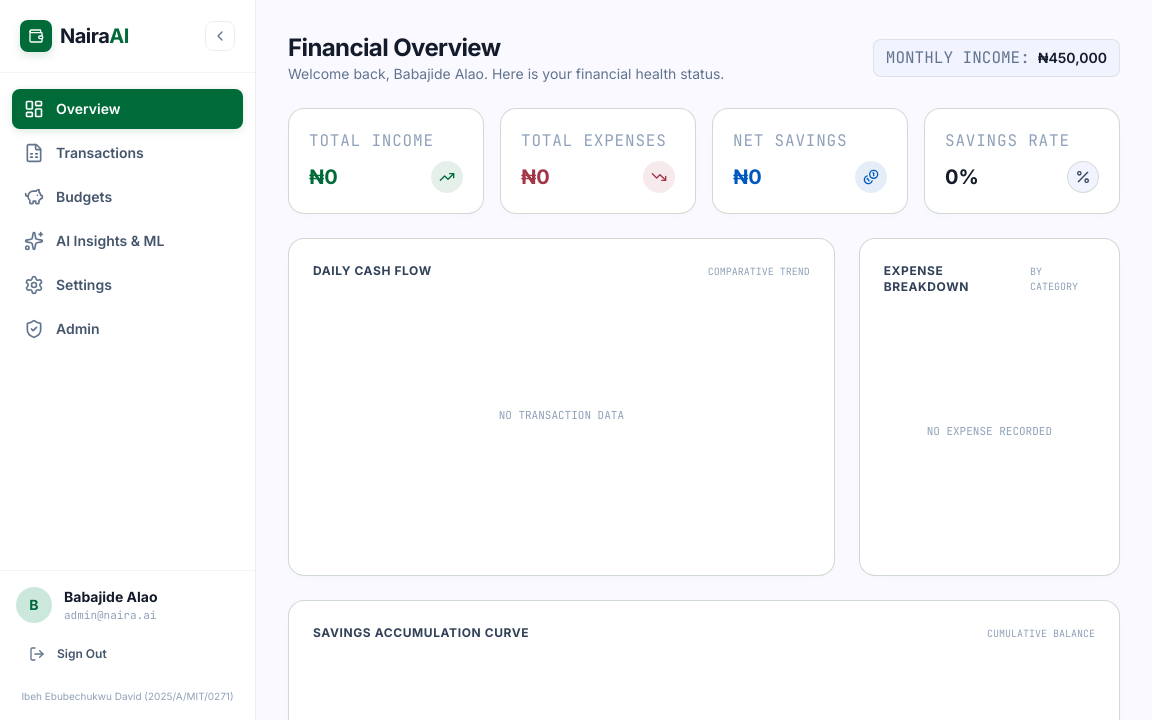
it: Admin tab › renders the users table with server-driven pagination
Expected: the heading "Financial Overview" is shown, [288,33,500,62]
Click the button "Admin". click: {"x": 128, "y": 329}
box: [12,309,243,349]
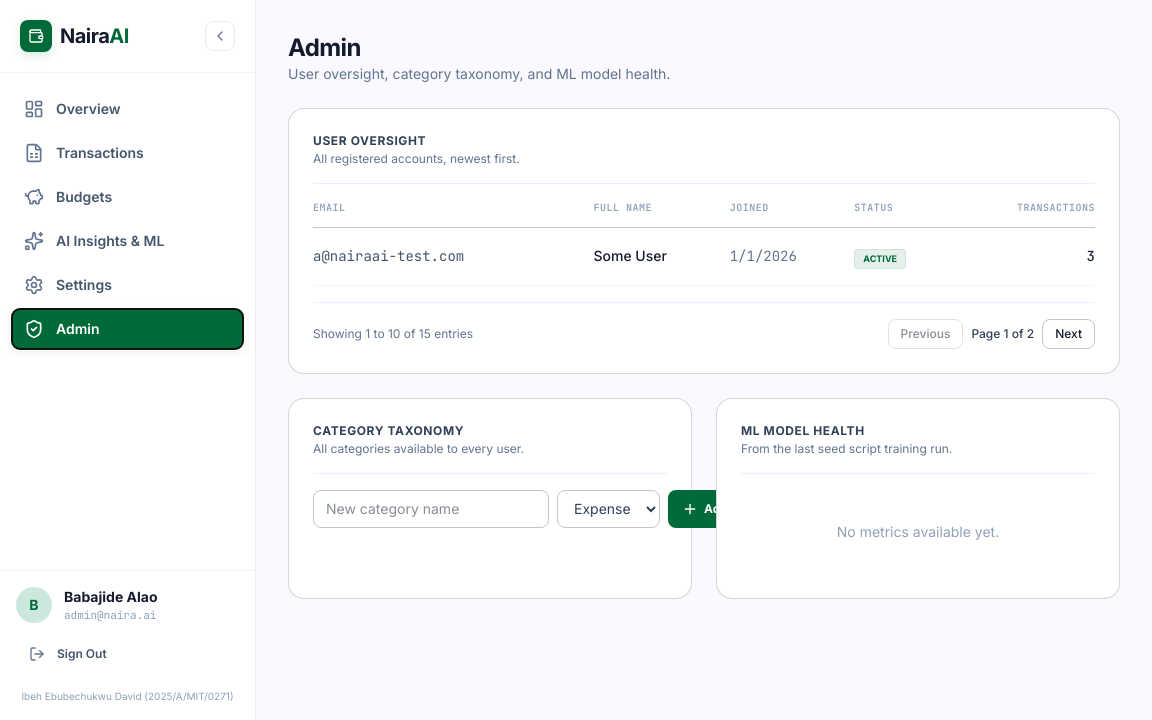
Now the heading "User Oversight" is shown, box [313,133,426,148]
Now the text "a@nairaai-test.com" is shown, box [313,228,594,285]
Now the text "3" is shown, box [950,228,1095,285]
